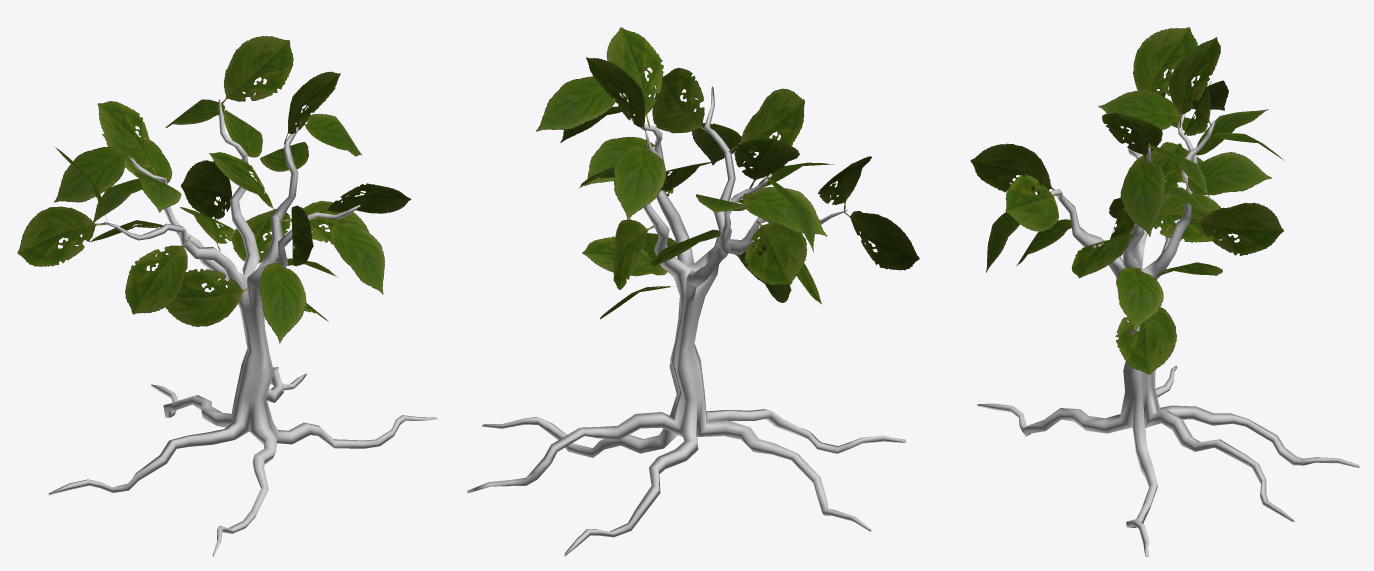
Rendered from Bush_01.fbx.
3 renders of one model, left to right at view 1: azimuth 30°, elevation 25°; view 2: azimuth 150°, elevation 25°; view 3: azimuth 270°, elevation 25°, orthographic. The views are drawn at different scales.
Visible parts, largest first — view 1: Bush_01; view 2: Bush_01; view 3: Bush_01.
Part boxes in pixels (box(x1,y1,x2,y2)): Bush_01: box(17, 36, 438, 556); Bush_01: box(467, 27, 919, 556); Bush_01: box(970, 27, 1359, 556).
Bounding box in the file's own units: 108 × 105 × 89.51.
